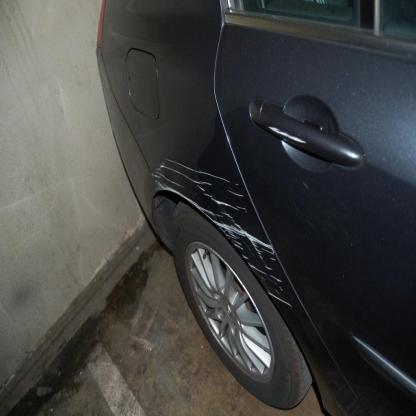door: (214, 13, 414, 413)
